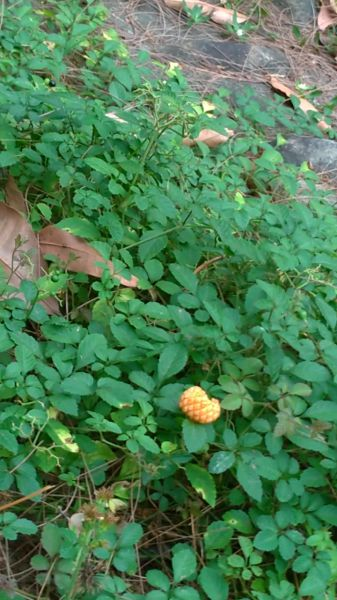eggs: (175, 384, 227, 431)
